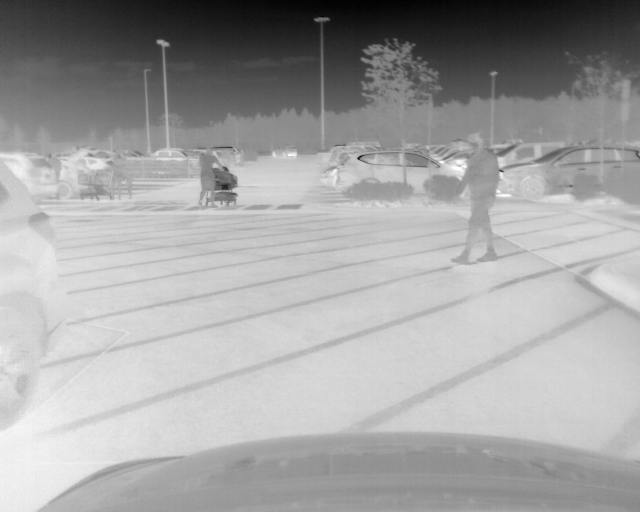car: (1, 158, 65, 431), (498, 142, 640, 202), (334, 148, 465, 191), (5, 150, 57, 200), (498, 140, 566, 164), (60, 160, 94, 198), (189, 149, 221, 174), (150, 146, 191, 162), (216, 146, 242, 168), (272, 143, 298, 159)
people: (448, 133, 500, 265), (195, 148, 220, 208), (107, 153, 125, 201), (125, 161, 136, 199)
